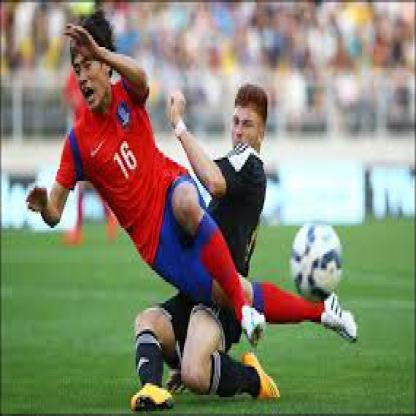Fall_Down: (25, 8, 361, 350)
